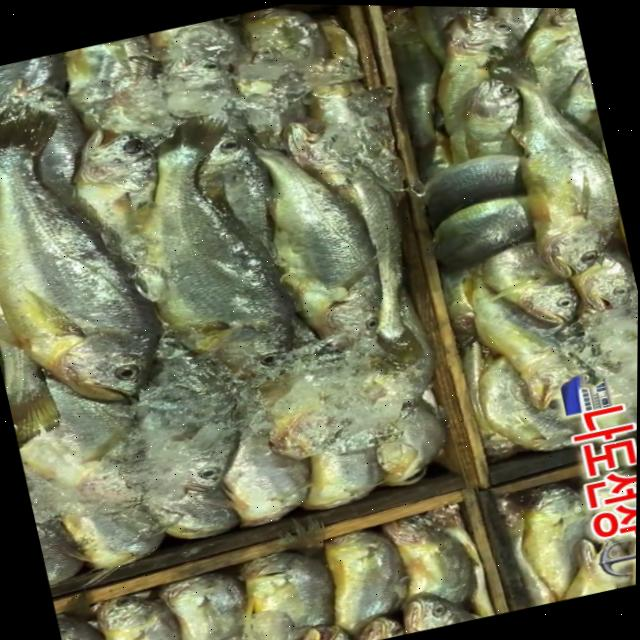Wet: (118, 111, 308, 406), (0, 101, 171, 424), (493, 43, 633, 284), (250, 130, 399, 354), (508, 472, 603, 599)
